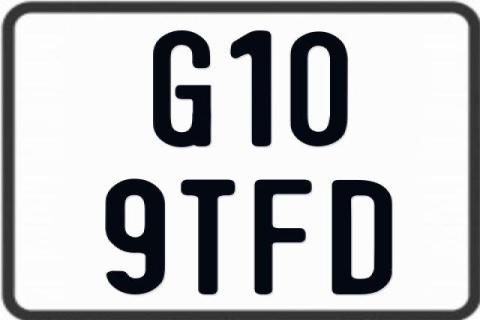0: (104, 177, 168, 293), (288, 29, 349, 148), (228, 29, 271, 147)
D: (332, 179, 396, 295)
F: (254, 178, 312, 294)
G: (152, 28, 214, 150)
T: (180, 178, 234, 294)
